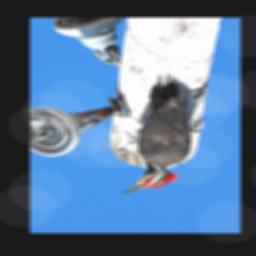Woodpecker: (115, 74, 208, 196)
